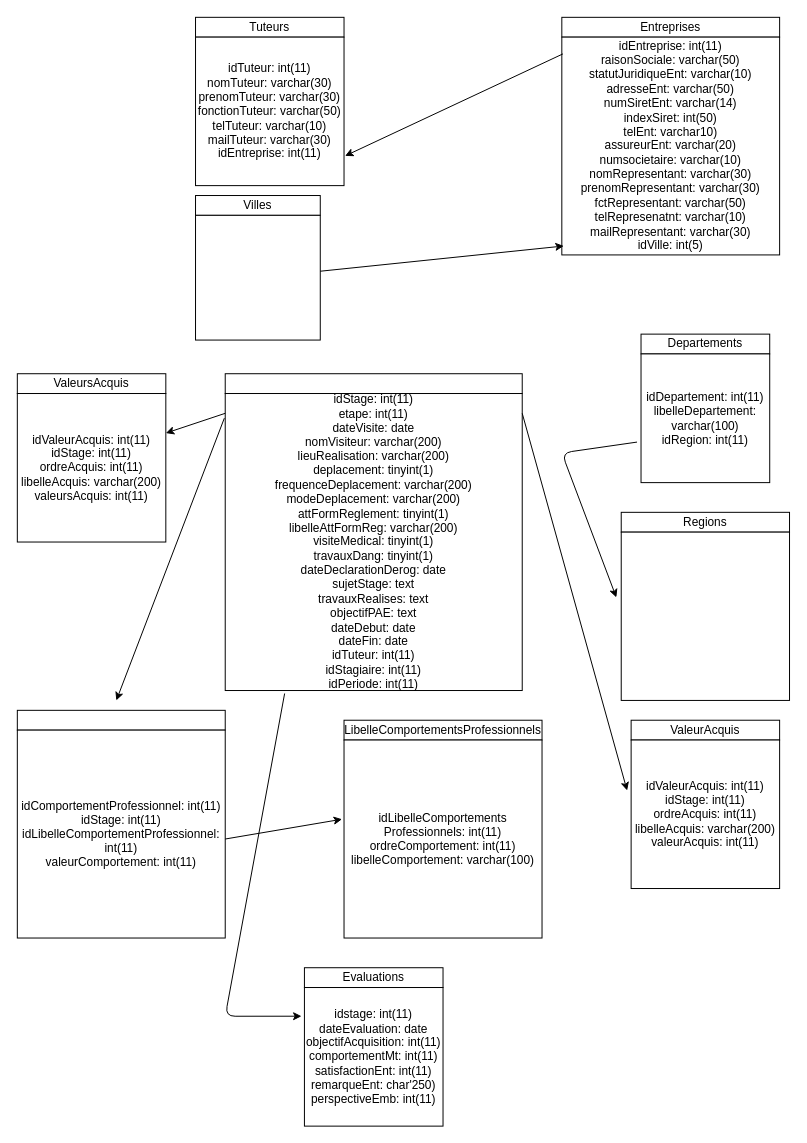
Image size: 807x1143. Some labels were removed from this diagram. The centre of each missing label's shape, as x and y in pixels:
"idRegion: int(11) libelleRegion: varchar(50) nb_depart: int(11)" goes at (x=705, y=615).
"idVille: int(11) nomVille: varchar(50) codePostal: int(11)" goes at (x=257, y=277).
"Stages" goes at (x=373, y=383).
"ValeursComportementsProfessionnels" goes at (x=120, y=719).
